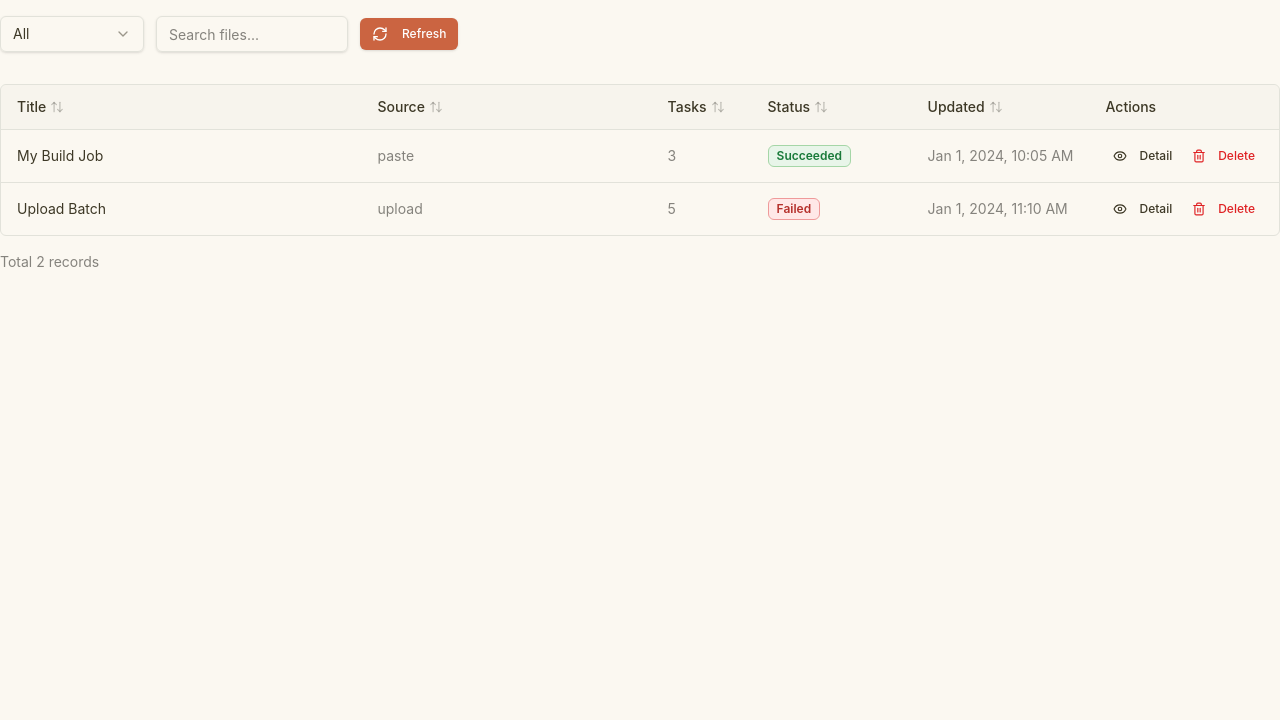
BuildJobsTab › detail sheet › opens the detail sheet when clicking a row
The image size is (1280, 720).
Click the button "Detail" in the row of "My Build Job": (1143, 156) [1106,142,1180,170]
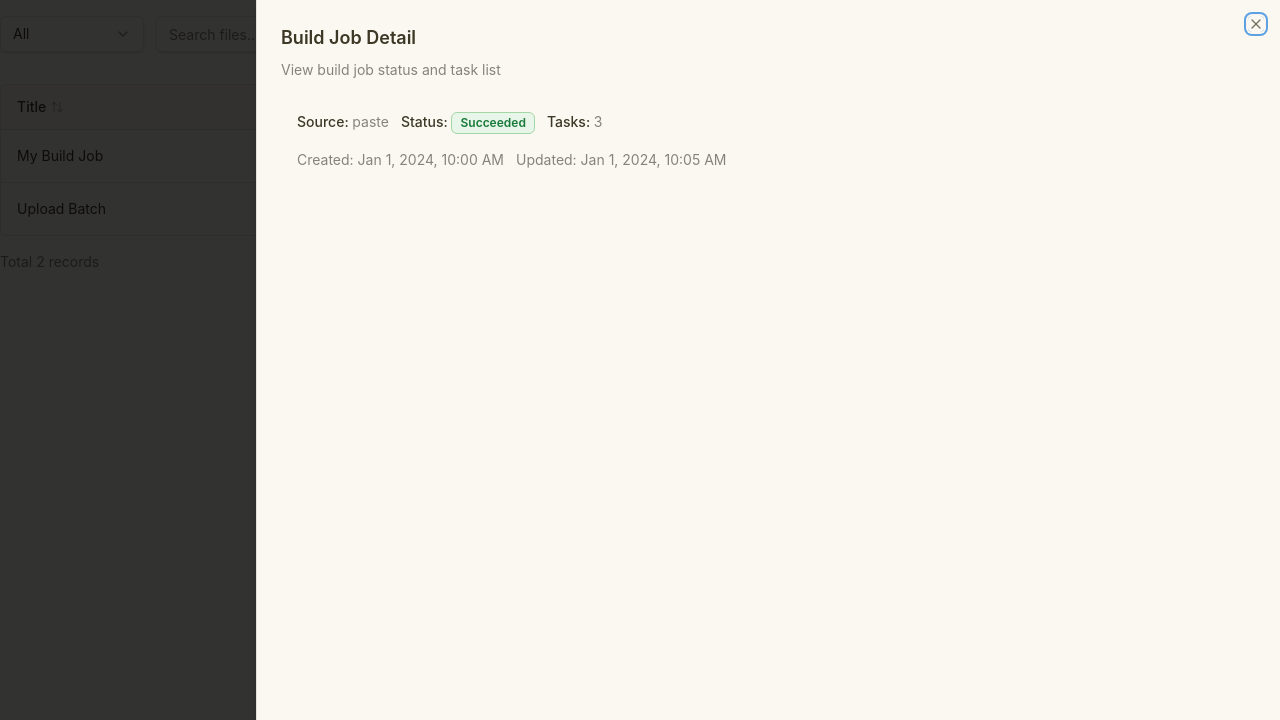
Check: the heading "Build Job Detail" is shown, box [281,27,416,48]
